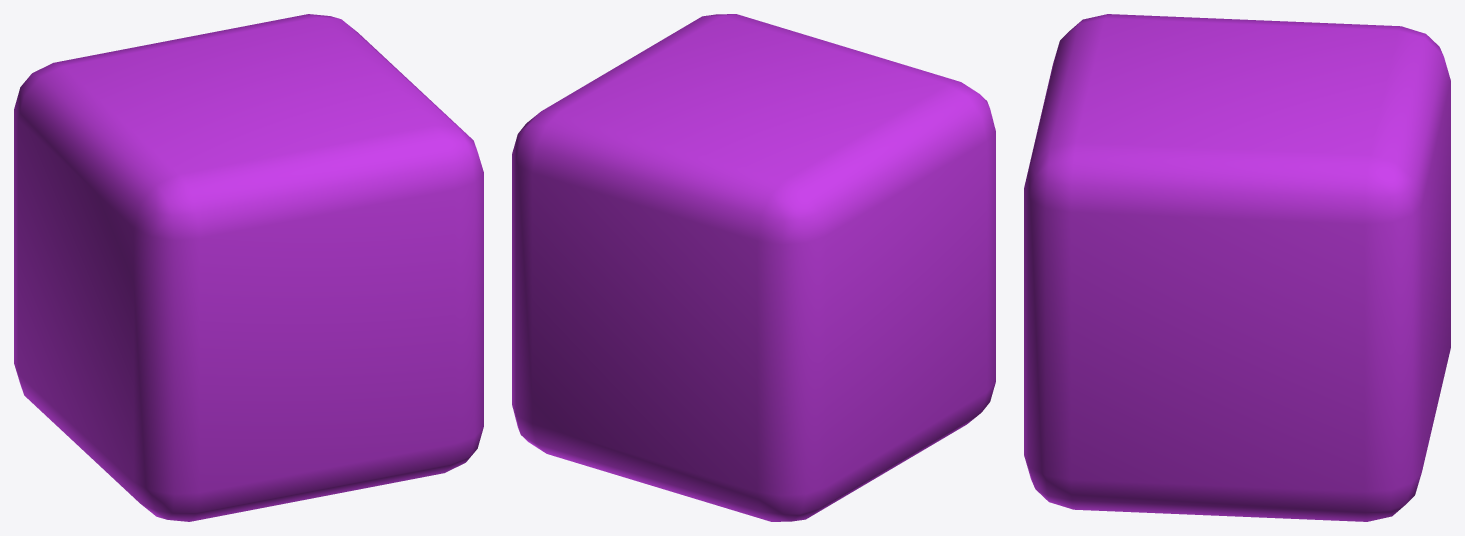
Rendered from Dice_low.fbx.
The picture shows the model from 3 angles, left to right: view 1: azimuth 30°, elevation 25°; view 2: azimuth 150°, elevation 25°; view 3: azimuth 270°, elevation 25°; orthographic projection. The views are drawn at different scales.
Visible parts, largest first — view 1: Dice; view 2: Dice; view 3: Dice.
Boxes of the visible parts, x1,y1,x2,y2 form: Dice: [14, 14, 483, 521]; Dice: [512, 14, 995, 521]; Dice: [1024, 14, 1450, 521].
Bounding box in the file's own units: 112 × 105 × 112.
